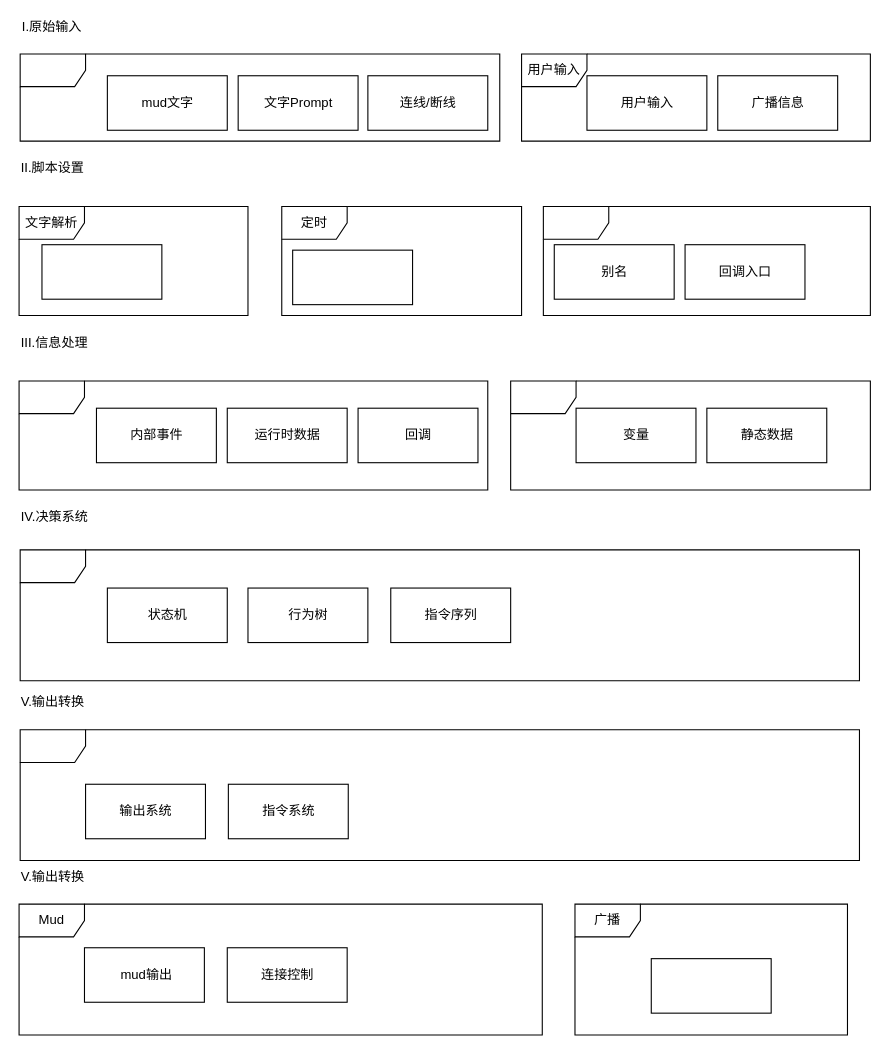
Image size: 889x1054. Some labels were removed from this diagram. Each missing label, with the box of its shape:
业务逻辑: (19, 549, 859, 681)
功能: (542, 205, 870, 316)
发送广播: (650, 958, 771, 1013)
数据层: (510, 380, 870, 490)
核心层: (18, 380, 488, 490)
触发器: (41, 244, 162, 299)
计时器: (292, 249, 413, 305)
输入: (19, 53, 500, 141)
输出层: (19, 729, 859, 861)
